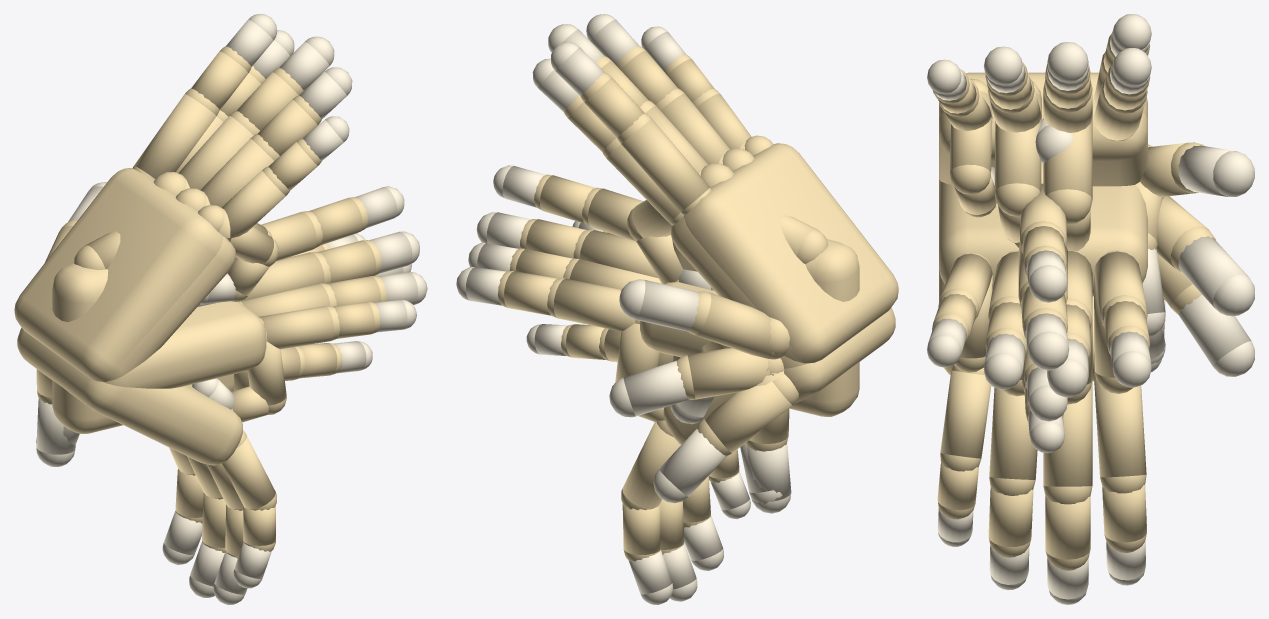
File: curwen_hands.glb
3 renders of one model, left to right at view 1: azimuth 30°, elevation 25°; view 2: azimuth 150°, elevation 25°; view 3: azimuth 270°, elevation 25°, orthographic. The views are drawn at different scales.
Parts seen in each view (by area): view 1: ti, re, la, sol, do, mi, fa; view 2: ti, re, la, sol, mi, do, fa; view 3: la, mi, re, ti, do, sol.
Part boxes in pixels (x1,y1,x2,y2): ti: [14, 14, 278, 381]; re: [45, 30, 352, 381]; la: [17, 327, 276, 604]; sol: [52, 186, 419, 433]; do: [36, 301, 286, 444]; mi: [240, 233, 427, 349]; fa: [36, 369, 75, 466]; ti: [551, 42, 898, 424]; re: [532, 14, 806, 363]; la: [621, 307, 895, 604]; sol: [476, 165, 859, 416]; mi: [456, 221, 781, 417]; do: [615, 282, 807, 504]; fa: [745, 358, 791, 513]; la: [937, 254, 1254, 604]; mi: [927, 196, 1254, 397]; re: [927, 42, 1254, 196]; ti: [939, 14, 1165, 337]; do: [939, 179, 1165, 404]; sol: [1015, 119, 1073, 453].
Size of the model in its own units: 0.2037 by 0.2844 by 0.1333.
